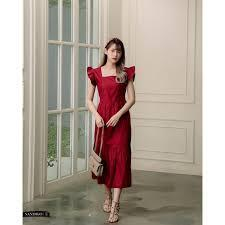dress: (86, 65, 137, 191)
